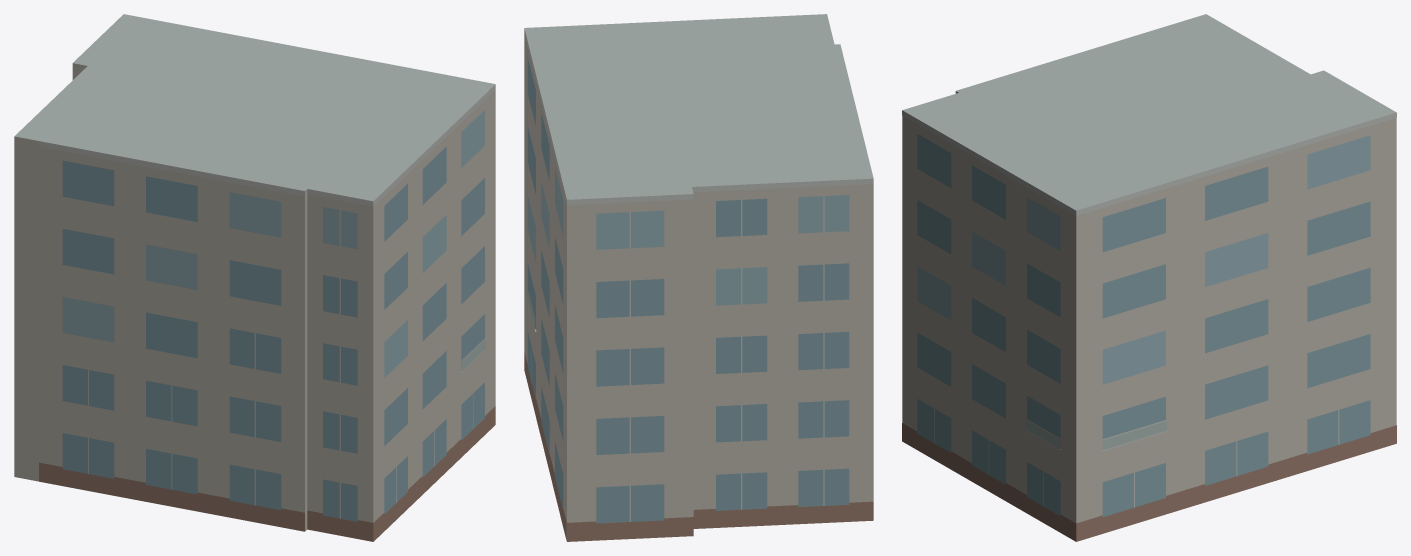
The model's file is survey-upis-32862723.glb.
3 renders of one model, left to right at view 1: azimuth 30°, elevation 25°; view 2: azimuth 150°, elevation 25°; view 3: azimuth 270°, elevation 25°, orthographic. The views are drawn at different scales.
Parts seen in each view (by area): view 1: survey-upis-32862723.tmp; view 2: survey-upis-32862723.tmp; view 3: survey-upis-32862723.tmp.
Part boxes in pixels (left/top/right/bottom): survey-upis-32862723.tmp: left=14, top=14, right=495, bottom=541; survey-upis-32862723.tmp: left=524, top=14, right=873, bottom=541; survey-upis-32862723.tmp: left=902, top=14, right=1396, bottom=541.
Size of the model in its own units: 19.43 by 15.25 by 20.65.
